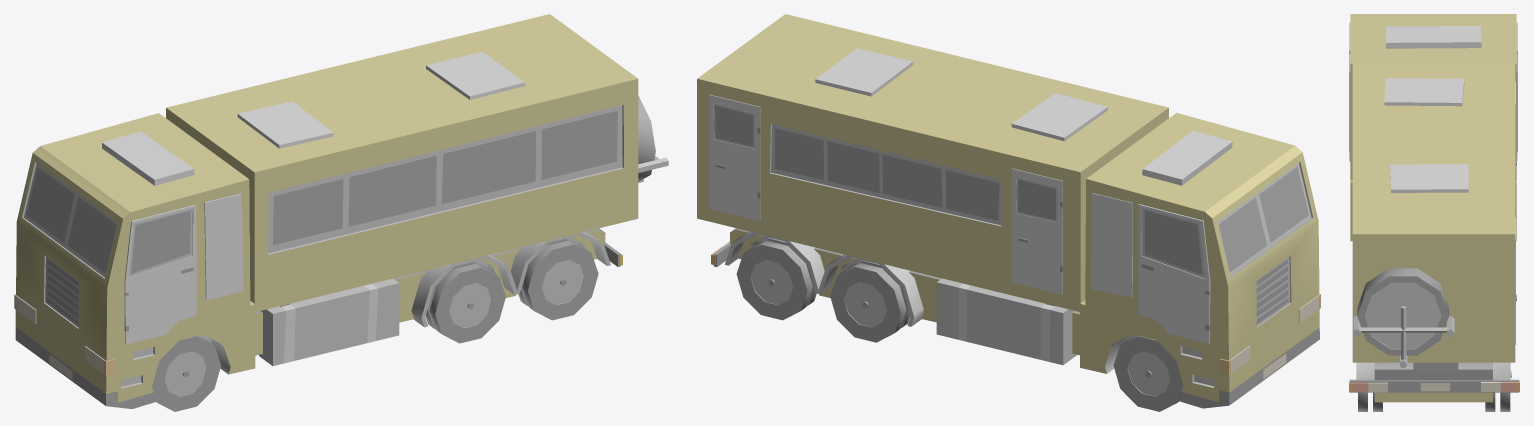
Rendered from kar15.fbx.
3 renders of one model, left to right at view 1: azimuth 30°, elevation 25°; view 2: azimuth 150°, elevation 25°; view 3: azimuth 270°, elevation 25°, orthographic. The views are drawn at different scales.
Parts seen in each view (by area): view 1: Cylinder_7, Extrude_1_1, Cylinder_4_1, Cylinder_3_1, Cylinder_1_1; view 2: Cylinder_7, Extrude_2_1, Cube_5_1, Cube_5, Cylinder_5_1, Cylinder_1, Cylinder_2_1; view 3: Cylinder_7, Cylinder_1, Cylinder_3_1.
Part boxes in pixels (x1=…): Cylinder_7: x1=14, y1=14, x2=668, y2=408; Extrude_1_1: x1=124, y1=204, x2=196, y2=344; Cylinder_4_1: x1=425, y1=260, x2=505, y2=343; Cylinder_3_1: x1=518, y1=238, x2=598, y2=320; Cylinder_1_1: x1=152, y1=336, x2=221, y2=411; Cylinder_7: x1=697, y1=14, x2=1320, y2=408; Extrude_2_1: x1=1138, y1=204, x2=1210, y2=343; Cube_5_1: x1=709, y1=94, x2=760, y2=220; Cube_5: x1=1011, y1=168, x2=1062, y2=294; Cylinder_5_1: x1=830, y1=260, x2=910, y2=342; Cylinder_1: x1=736, y1=237, x2=816, y2=320; Cylinder_2_1: x1=1113, y1=335, x2=1183, y2=411; Cylinder_7: x1=1349, y1=14, x2=1519, y2=402; Cylinder_1: x1=1485, y1=371, x2=1511, y2=411; Cylinder_3_1: x1=1358, y1=392, x2=1382, y2=411.
Bounding box in the file's own units: 879 × 338 × 251.
